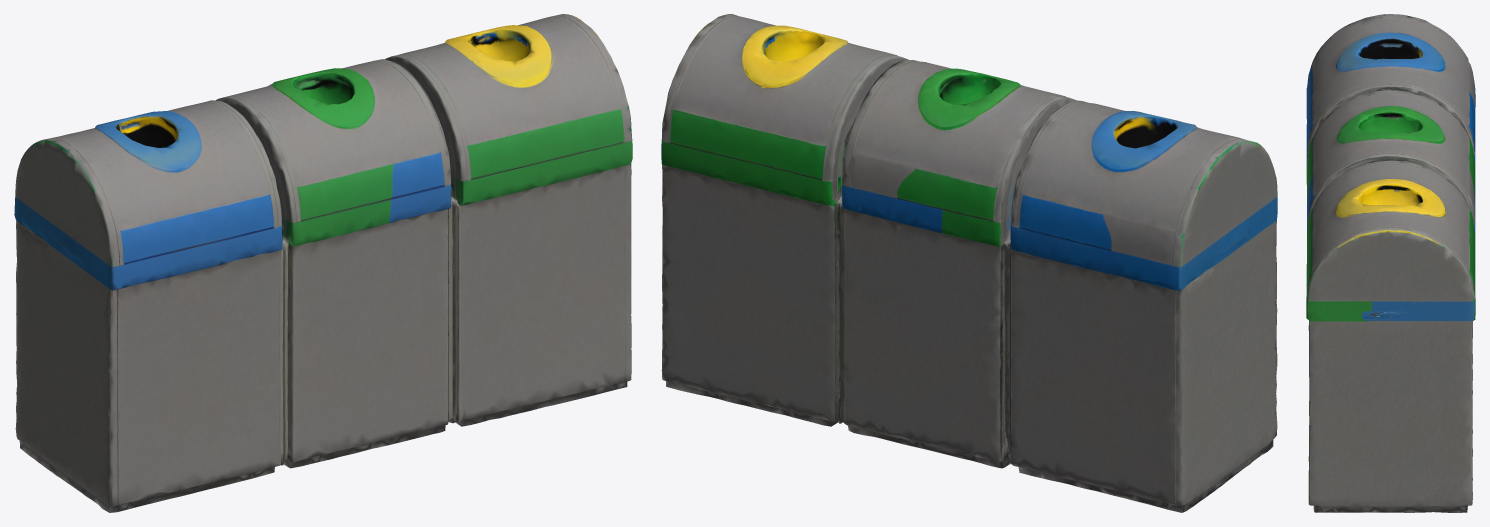
File: RecyclingBins.glb
3 views of the same model, side by side, from view 1: azimuth 30°, elevation 25°; view 2: azimuth 150°, elevation 25°; view 3: azimuth 270°, elevation 25° (orthographic). The views are drawn at different scales.
Parts seen in each view (by area): view 1: texture_mapping; view 2: texture_mapping; view 3: texture_mapping.
Boxes of the visible parts, x1,y1,x2,y2 form: texture_mapping: (14, 14, 632, 512); texture_mapping: (661, 14, 1277, 512); texture_mapping: (1306, 14, 1475, 512).
Bounding box in the file's own units: 0.9956 × 0.6094 × 0.3289.
Materials: 1 (1 with a texture image).
